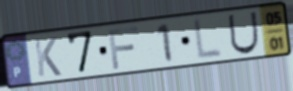1: (155, 22, 176, 63)
7: (64, 30, 94, 77)
F: (106, 25, 141, 72)
K: (32, 35, 63, 79)
L: (192, 16, 225, 62)
U: (226, 10, 261, 57)
